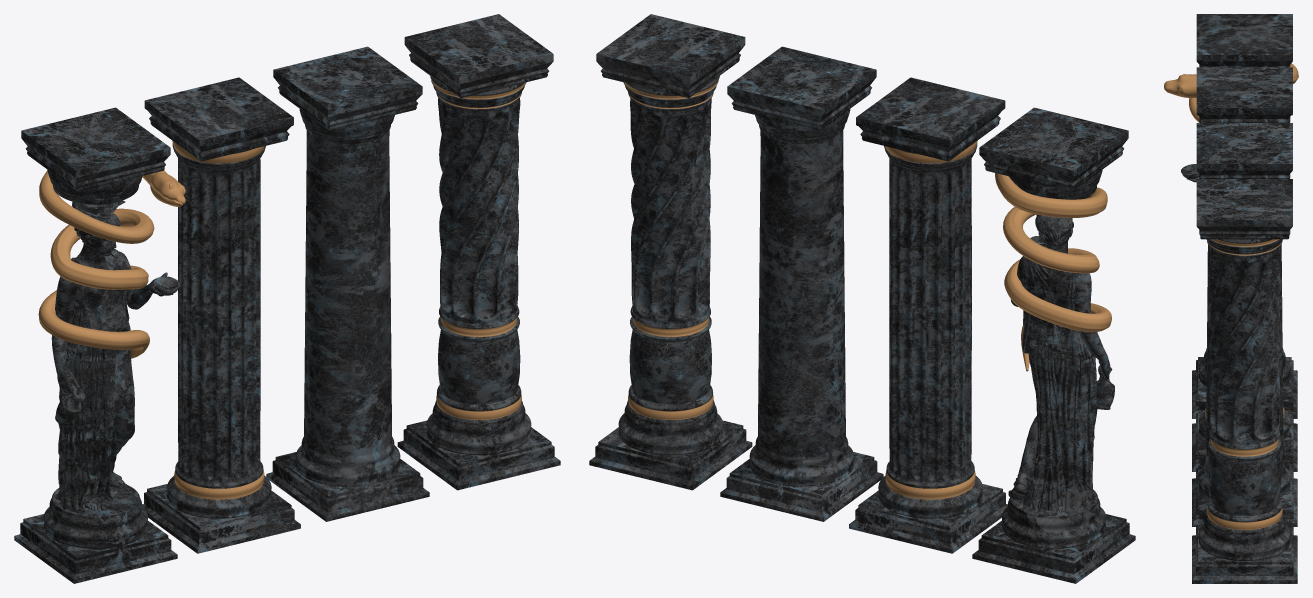
Rendered from اربع اعمده مختلفة.glb.
3 renders of one model, left to right at view 1: azimuth 30°, elevation 25°; view 2: azimuth 150°, elevation 25°; view 3: azimuth 270°, elevation 25°, orthographic. The views are drawn at different scales.
Parts seen in each view (by area): view 1: object 4, object 6, object 5, object 2, Hebe_0, Spiral_2; view 2: object 4, object 6, object 5, object 2, Hebe_0, Spiral_2; view 3: object 5, object 4, object 6, object 2, Spiral_2, Hebe_0.
Boxes of the visible parts, bbox=[...] form: object 4: bbox=[266, 46, 429, 521]; object 6: bbox=[142, 77, 300, 553]; object 5: bbox=[397, 14, 560, 490]; object 2: bbox=[14, 107, 177, 583]; Hebe_0: bbox=[51, 213, 179, 511]; Spiral_2: bbox=[38, 170, 185, 358]; object 4: bbox=[720, 46, 883, 521]; object 6: bbox=[849, 77, 1007, 553]; object 5: bbox=[589, 14, 752, 490]; object 2: bbox=[972, 107, 1135, 583]; Hebe_0: bbox=[1008, 215, 1114, 512]; Spiral_2: bbox=[995, 173, 1111, 371]; object 5: bbox=[1192, 179, 1297, 583]; object 4: bbox=[1192, 123, 1297, 526]; object 6: bbox=[1192, 67, 1297, 471]; object 2: bbox=[1192, 14, 1297, 418]; Spiral_2: bbox=[1164, 63, 1298, 122]; Hebe_0: bbox=[1181, 164, 1199, 182].
Size of the model in its own units: 4.89 by 3.93 by 1.32.
6 materials, 6 textured.
